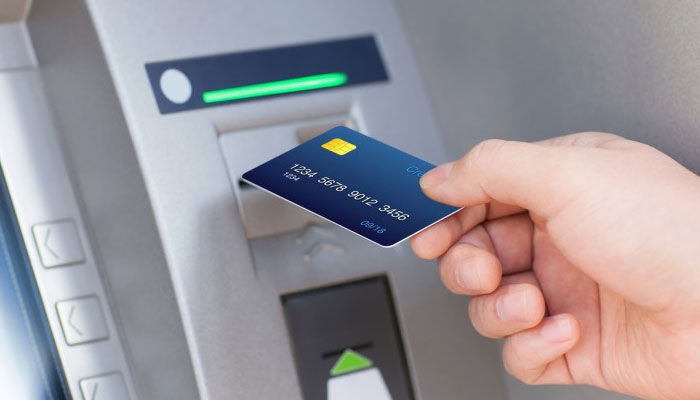tarjeta: (240, 125, 468, 249)
